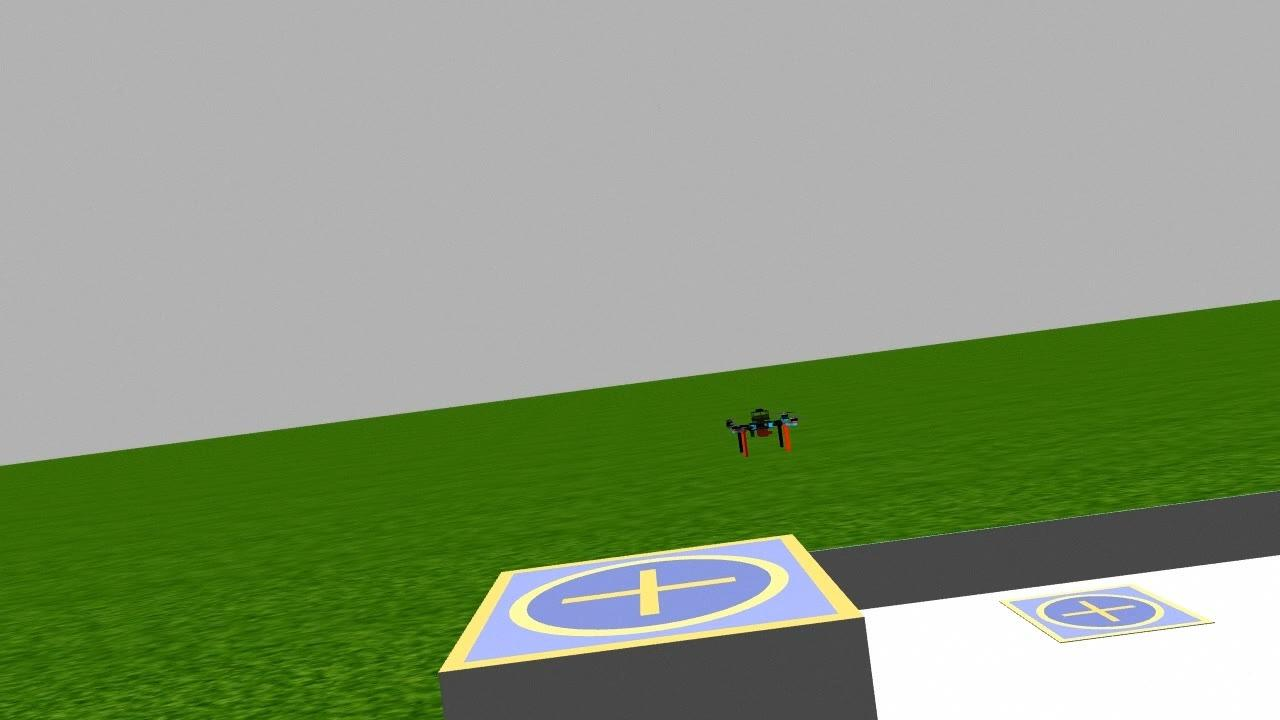UAV: (714, 389, 810, 470)
